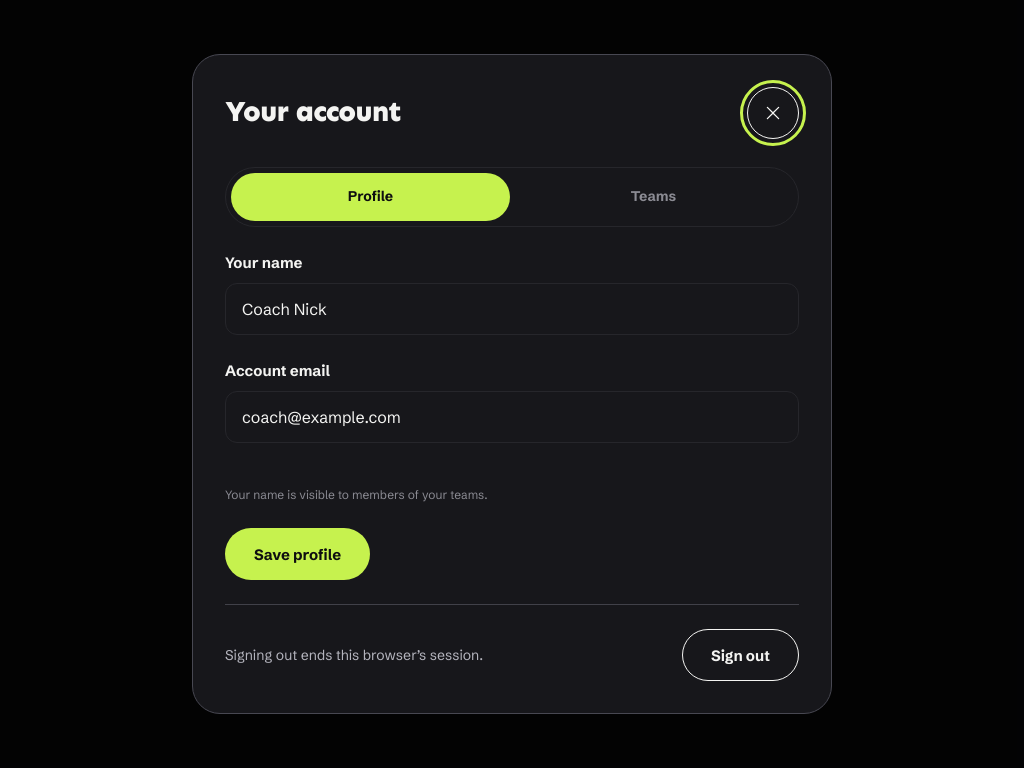
Test: account panel › limits access controls to owners and explains that viewers can read coaching records
The image size is (1024, 768).
Click the button "Teams".
click(654, 196)  # box [514,172,793,220]
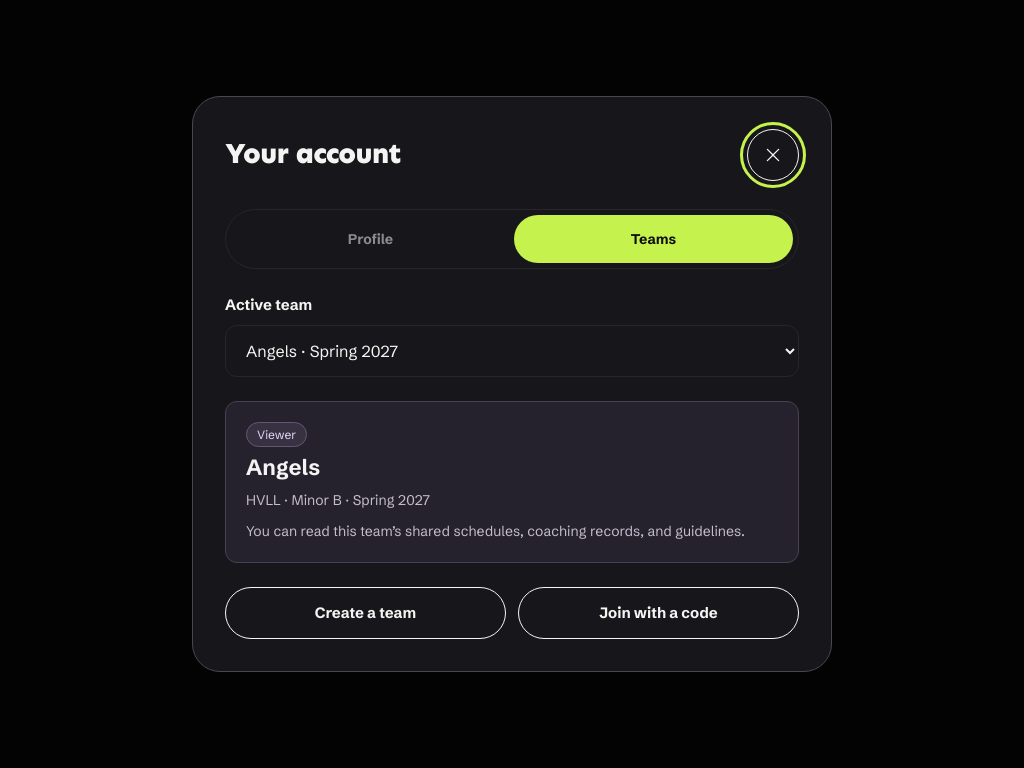
Check: the text "You can read this team’s shared schedules, coaching records, and guidelines." is shown, box [246,520,778,542]
